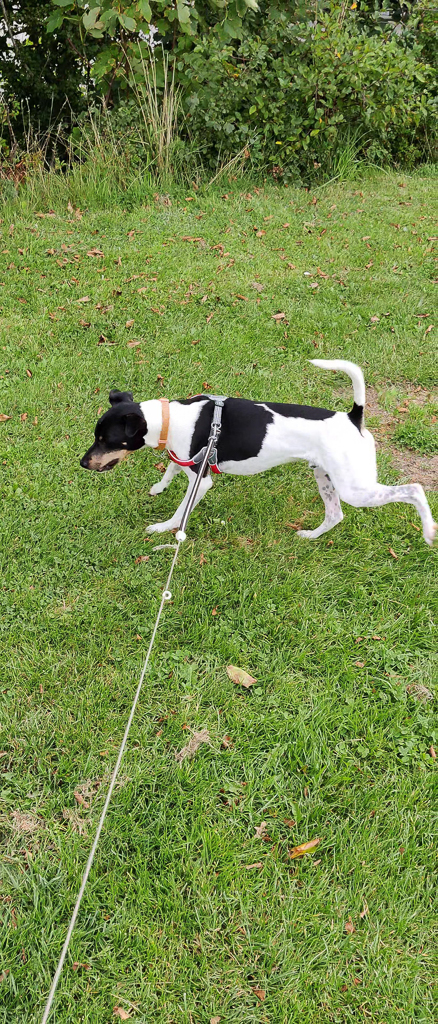Dog: (71, 349, 438, 562)
